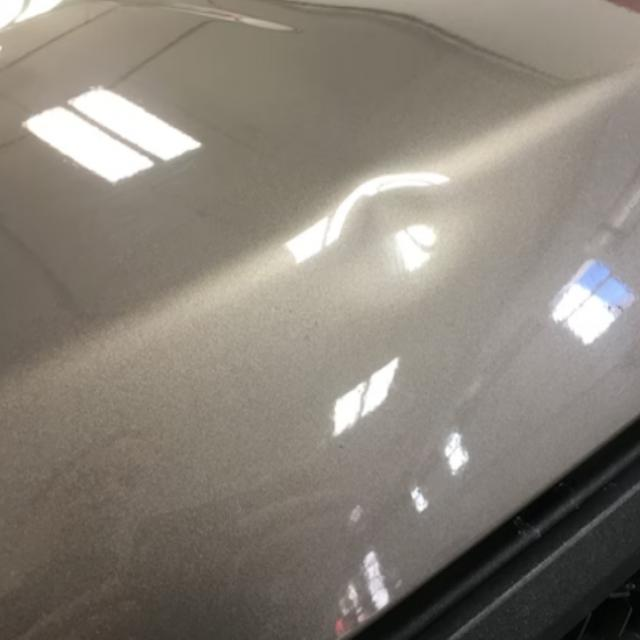dents: (334, 177, 463, 285)
